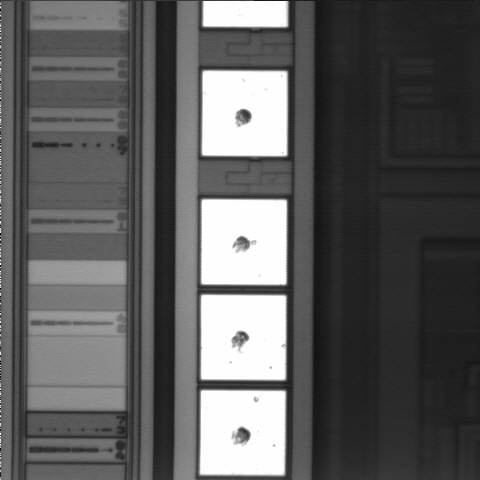pad: (201, 199, 287, 285), (202, 71, 287, 156), (201, 295, 286, 380), (200, 390, 285, 475)
